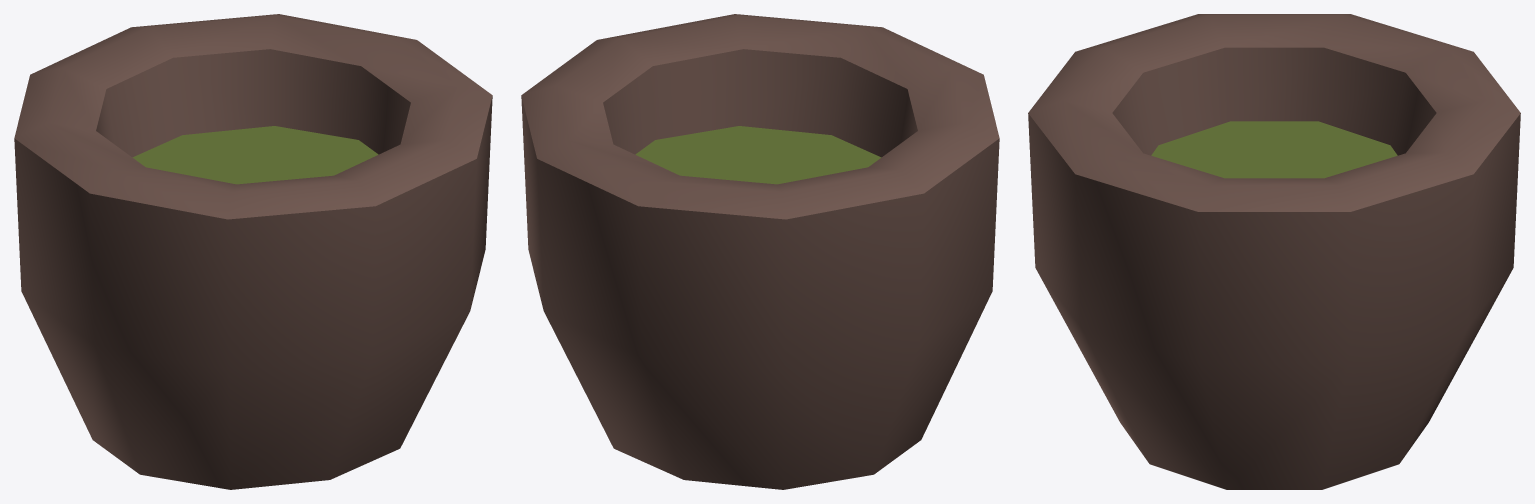
The model's file is cup_filled.gltf.glb.
The picture shows the model from 3 angles, left to right: view 1: azimuth 30°, elevation 25°; view 2: azimuth 150°, elevation 25°; view 3: azimuth 270°, elevation 25°; orthographic projection.
Visible parts, largest first — view 1: cup_filled; view 2: cup_filled; view 3: cup_filled.
Part boxes in pixels (left/top/right/bottom): cup_filled: left=14, top=14, right=492, bottom=489; cup_filled: left=521, top=14, right=999, bottom=489; cup_filled: left=1028, top=14, right=1520, bottom=489.
Bounding box in the file's own units: 0.2814 × 0.2134 × 0.2959.
